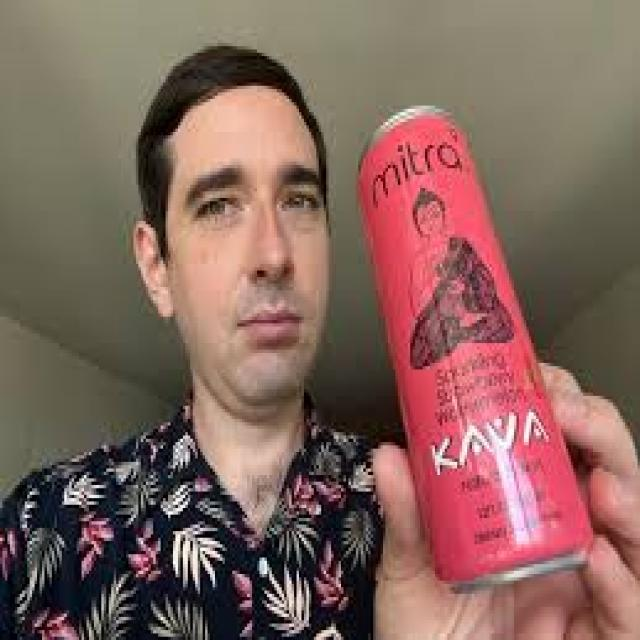Cans: (354, 99, 600, 594)
